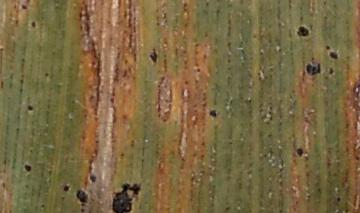tarspot: (111, 182, 141, 213), (304, 62, 322, 77), (75, 189, 90, 204), (148, 47, 159, 64), (296, 25, 310, 38), (22, 162, 33, 173), (295, 146, 304, 157), (88, 173, 97, 184), (208, 109, 218, 118), (329, 51, 338, 61), (62, 184, 71, 193), (19, 3, 28, 10), (327, 66, 334, 74), (26, 104, 33, 112), (30, 20, 36, 28), (335, 196, 341, 203), (325, 44, 331, 51), (43, 71, 49, 78), (79, 207, 85, 213), (40, 203, 45, 210), (79, 203, 85, 207), (24, 1, 31, 4)
